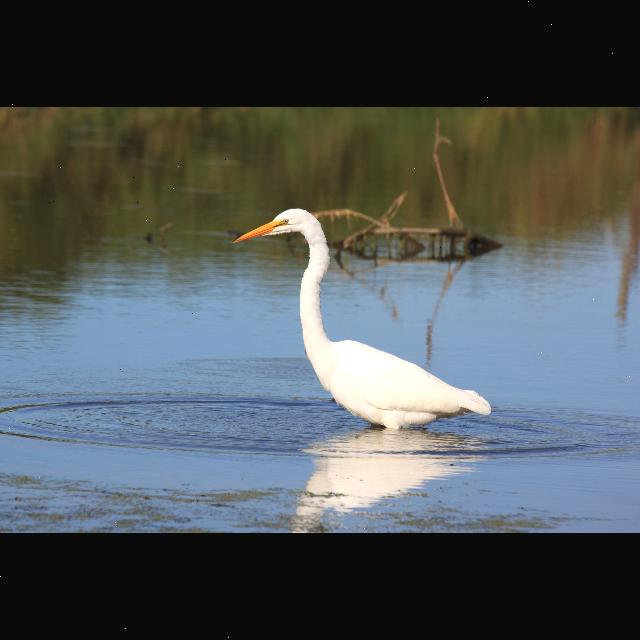egret: (232, 195, 493, 437)
